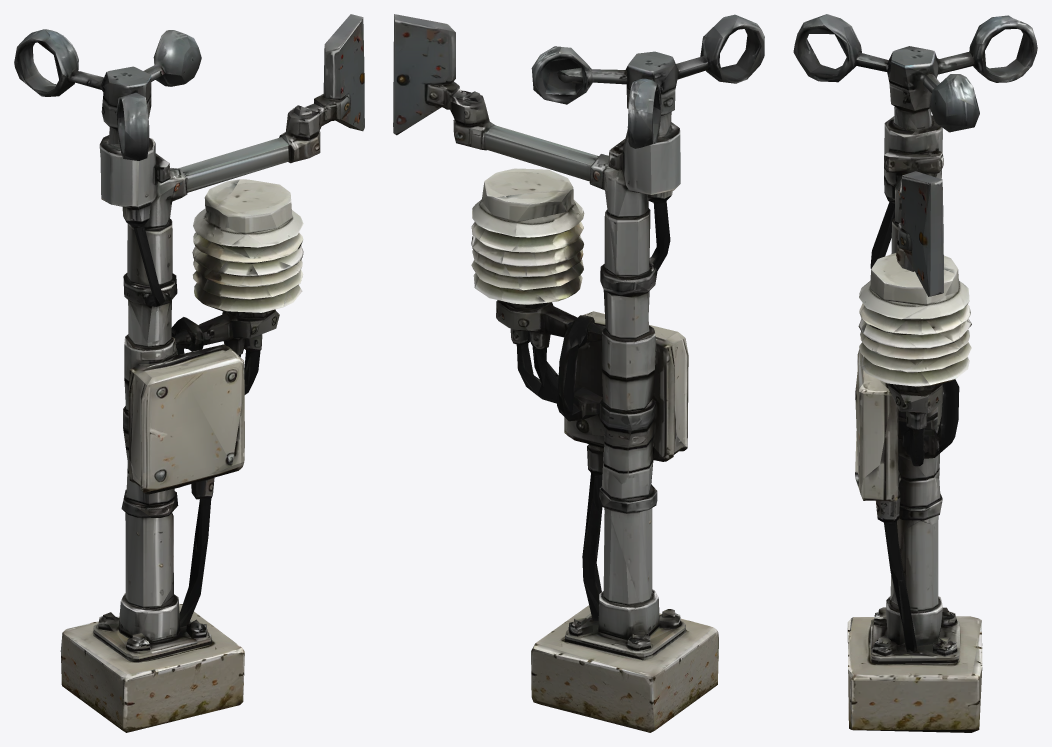
File: weather-station.glb
The picture shows the model from 3 angles, left to right: view 1: azimuth 30°, elevation 25°; view 2: azimuth 150°, elevation 25°; view 3: azimuth 270°, elevation 25°; orthographic projection. The views are drawn at different scales.
Parts seen in each view (by area): view 1: node_0; view 2: node_0; view 3: node_0.
Boxes of the visible parts, <box> form: node_0: <box>14,14,364,732</box>; node_0: <box>393,14,764,732</box>; node_0: <box>793,14,1037,732</box>.
Bounding box in the file's own units: 0.5204 × 1.07 × 0.3592.
1 material, 1 textured.
